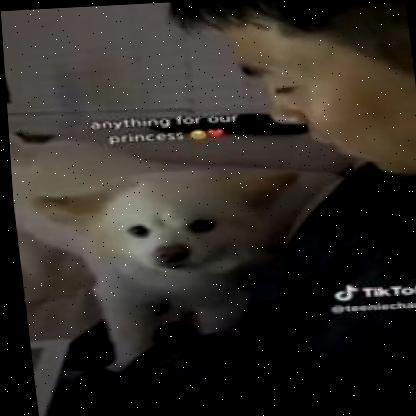dog: (21, 150, 328, 355)
